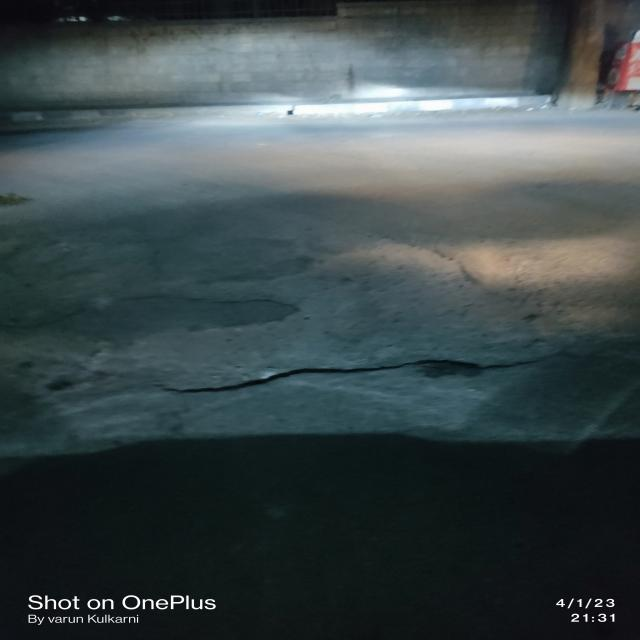potholes: (105, 228, 557, 384)
